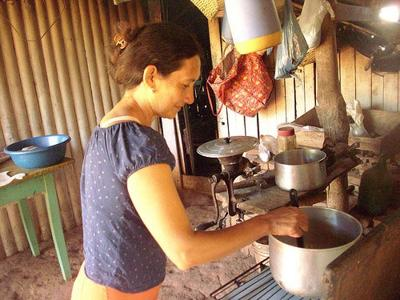person: (68, 25, 311, 300)
